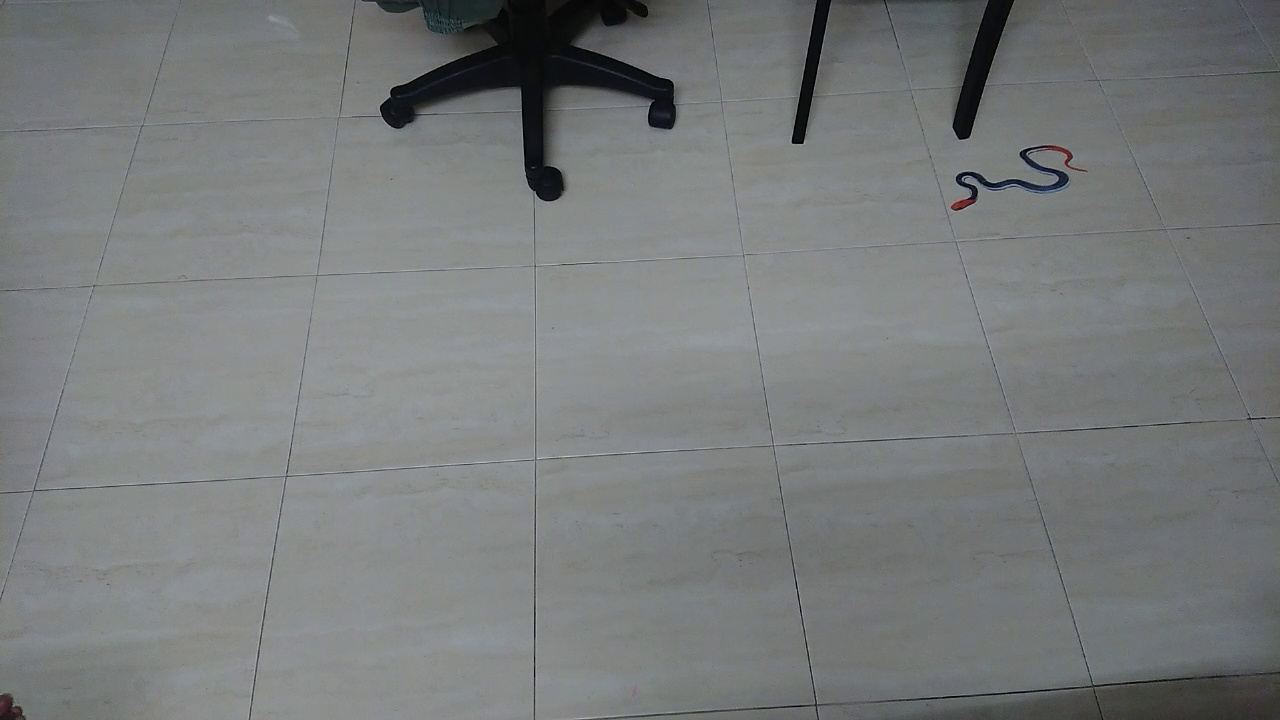snake: (933, 137, 1100, 215)
